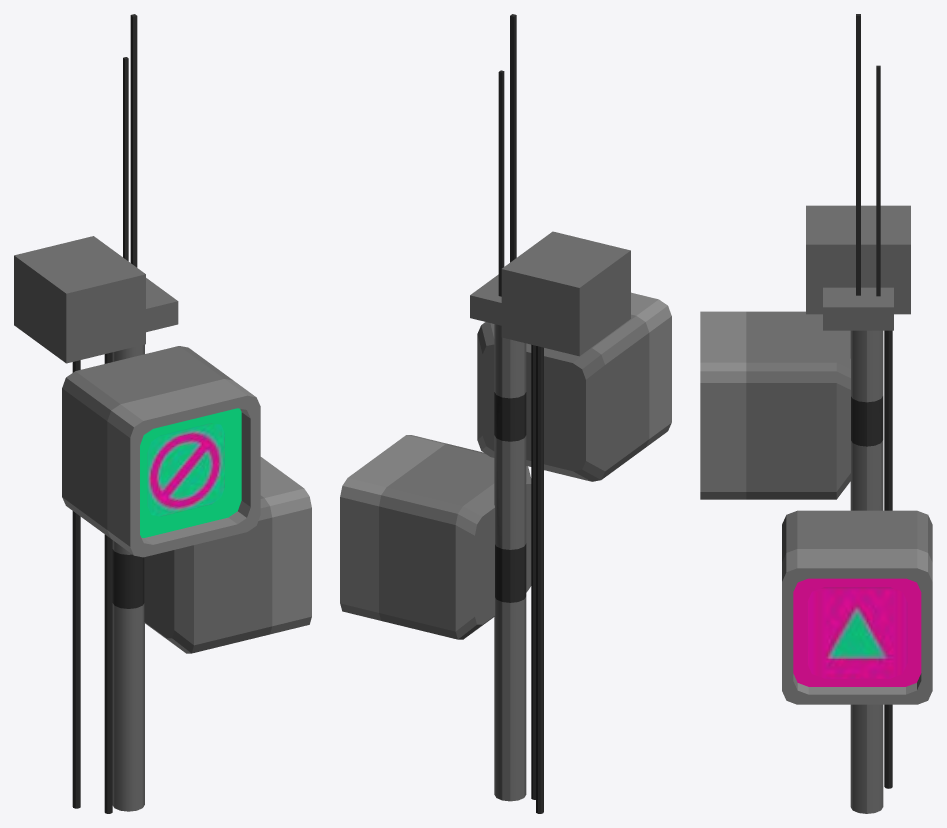
3 renders of one model, left to right at view 1: azimuth 30°, elevation 25°; view 2: azimuth 150°, elevation 25°; view 3: azimuth 270°, elevation 25°, orthographic. The views are drawn at different scales.
Visible parts, largest first — view 1: TV_3; view 2: TV_3; view 3: TV_3.
Part boxes in pixels (x1,y1,x2,y2): TV_3: [14, 14, 311, 813]; TV_3: [340, 14, 671, 813]; TV_3: [700, 14, 932, 813].
Size of the model in its own units: 0.7336 by 2.38 by 0.6315.
4 materials, 1 textured.
